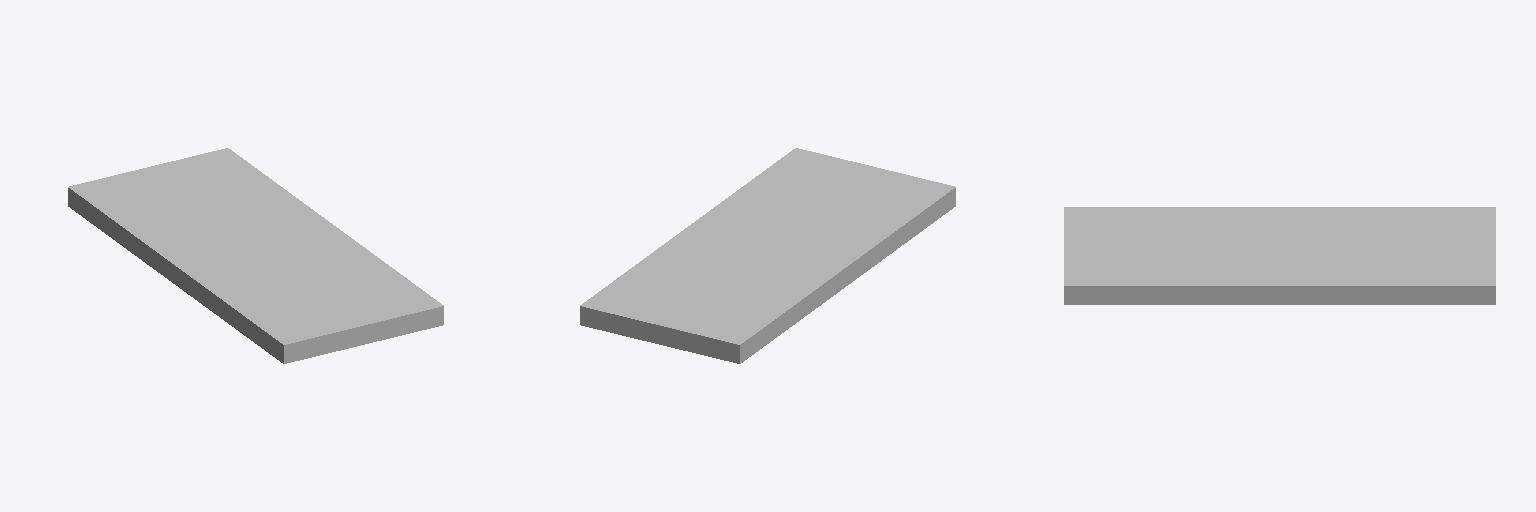
The model's file is office groudntest.obj.
3 renders of one model, left to right at view 1: azimuth 30°, elevation 25°; view 2: azimuth 150°, elevation 25°; view 3: azimuth 270°, elevation 25°, orthographic.
Parts seen in each view (by area): view 1: polySurface1022 polySurface177; view 2: polySurface1022 polySurface177; view 3: polySurface1022 polySurface177.
Part boxes in pixels (left/top/right/bottom): polySurface1022 polySurface177: left=68, top=148, right=443, bottom=363; polySurface1022 polySurface177: left=580, top=148, right=955, bottom=363; polySurface1022 polySurface177: left=1064, top=207, right=1495, bottom=304.
Size of the model in its own units: 490 by 55.95 by 1143.